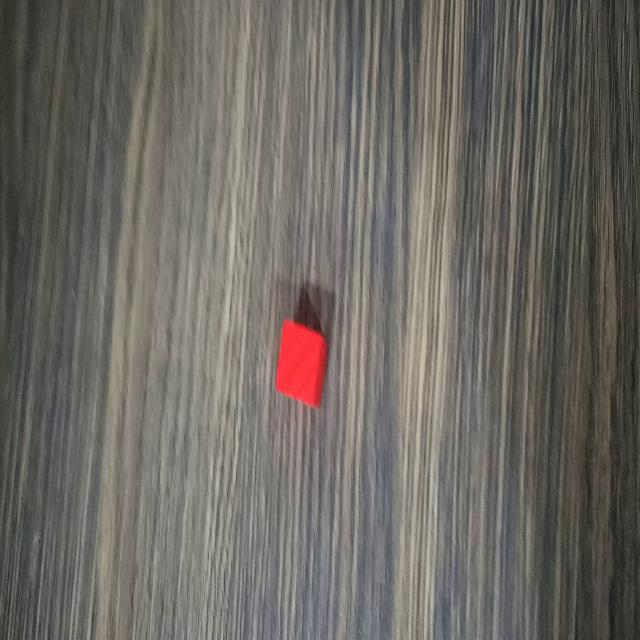cube: (273, 318, 330, 412)
